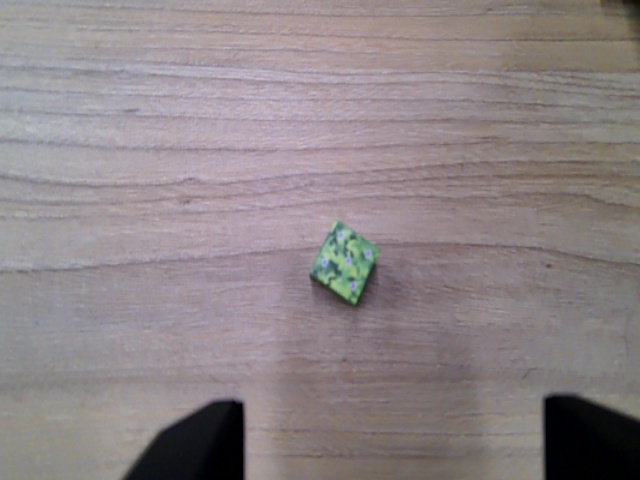grass: (306, 220, 382, 306)
